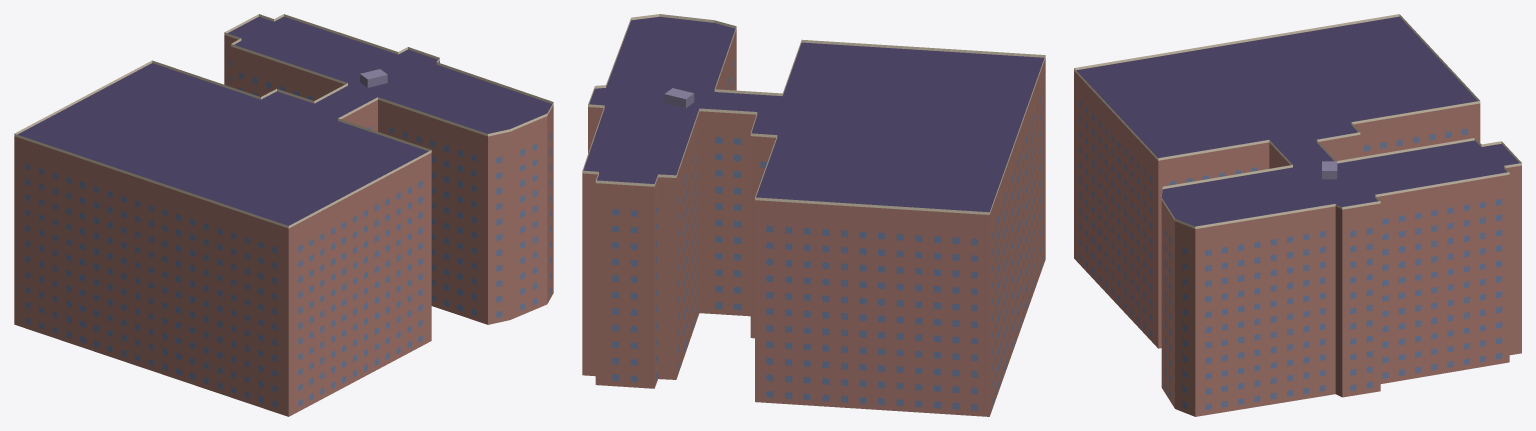
The model's file is b-016-saugeen-maitland-hall-day.glb.
3 views of the same model, side by side, from view 1: azimuth 30°, elevation 25°; view 2: azimuth 150°, elevation 25°; view 3: azimuth 270°, elevation 25° (orthographic). The views are drawn at different scales.
Parts seen in each view (by area): view 1: campus/b-016-saugeen-maitland-hall-day-0; view 2: campus/b-016-saugeen-maitland-hall-day-0; view 3: campus/b-016-saugeen-maitland-hall-day-0.
Boxes of the visible parts, box(x1,y1,x2,y2) form: campus/b-016-saugeen-maitland-hall-day-0: box(14, 14, 553, 416); campus/b-016-saugeen-maitland-hall-day-0: box(582, 14, 1045, 416); campus/b-016-saugeen-maitland-hall-day-0: box(1074, 14, 1521, 416).
Size of the model in its own units: 97.82 by 42.1 by 87.11.
